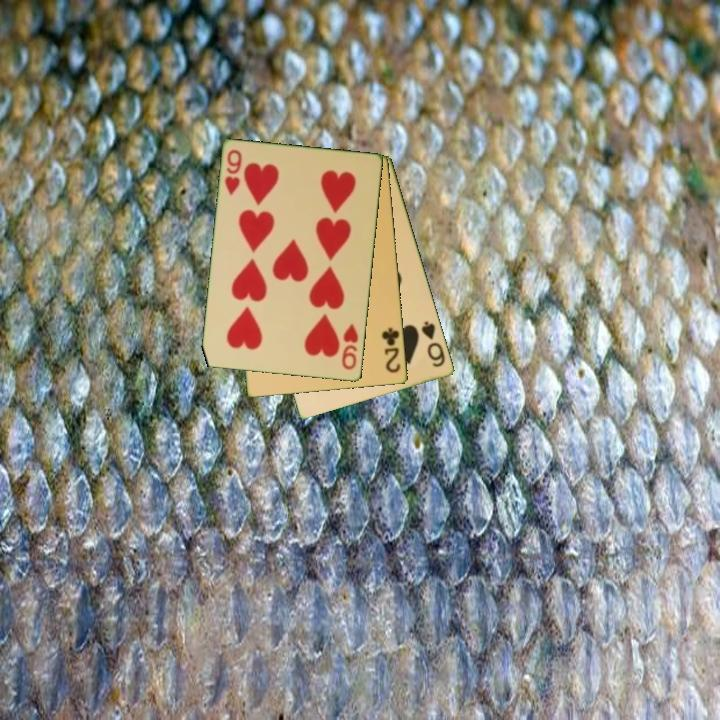2c: (379, 324, 404, 376)
6s: (418, 318, 448, 370)
9h: (338, 320, 362, 373), (221, 146, 245, 198)
